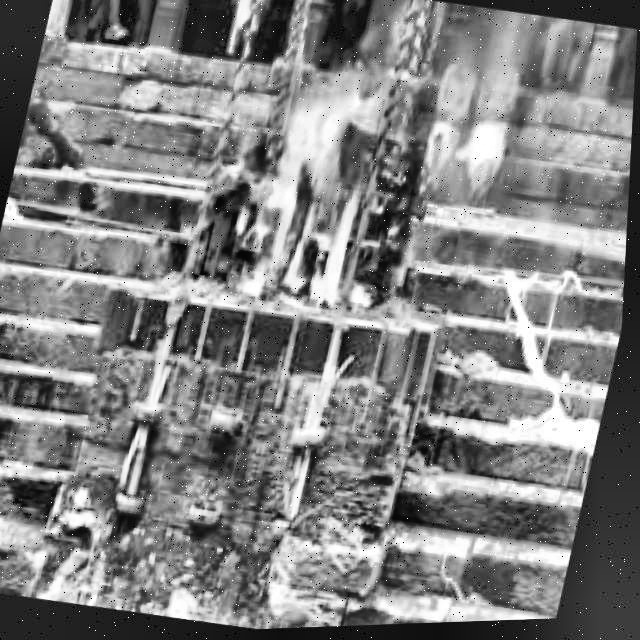Fire: (225, 66, 396, 321)
